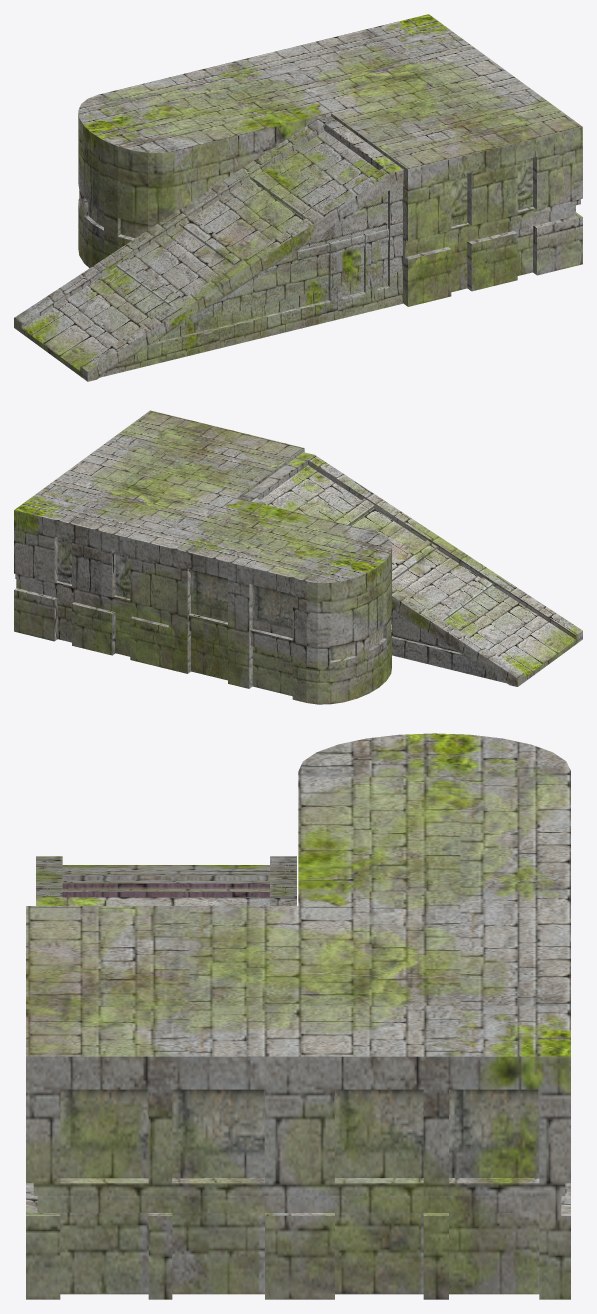
The picture shows the model from 3 angles, top to bottom: view 1: azimuth 30°, elevation 25°; view 2: azimuth 150°, elevation 25°; view 3: azimuth 270°, elevation 25°; orthographic projection. The views are drawn at different scales.
Bounding box in the file's own units: 37.47 × 9.99 × 20.32.
2 materials, 2 textured.
